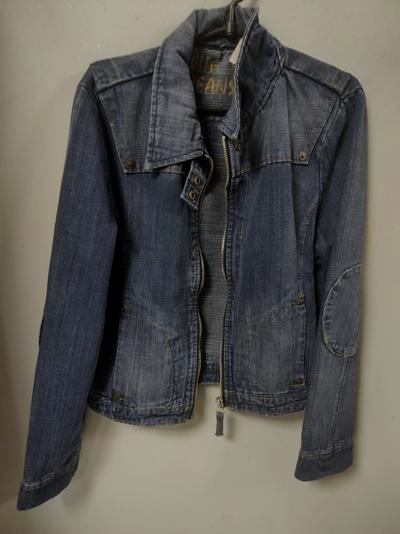Blazer: (24, 30, 394, 493)
